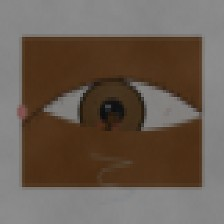foreign_body_visible: (87, 111, 129, 145)
